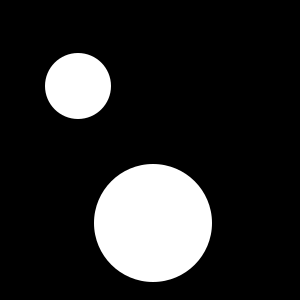rectangle: (94, 164, 212, 282), (45, 53, 111, 119)
